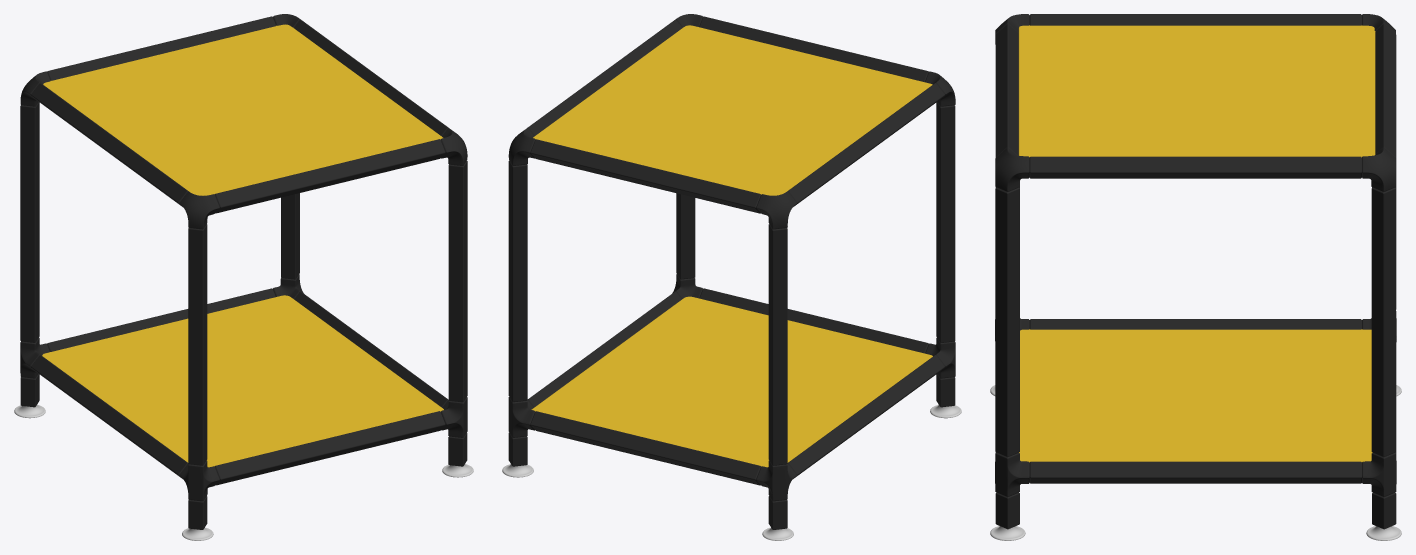
3 renders of one model, left to right at view 1: azimuth 30°, elevation 25°; view 2: azimuth 150°, elevation 25°; view 3: azimuth 270°, elevation 25°, orthographic. The views are drawn at different scales.
Visible parts, largest first — view 1: 329x374x329; view 2: 329x374x329; view 3: 329x374x329.
Boxes of the visible parts, x1=… form: 329x374x329: x1=14, y1=14, x2=473, y2=540; 329x374x329: x1=502, y1=14, x2=961, y2=540; 329x374x329: x1=990, y1=14, x2=1401, y2=540.
Size of the model in its own units: 0.4189 by 0.4683 by 0.4632.
